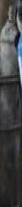cylinder: (1, 1, 22, 207)
